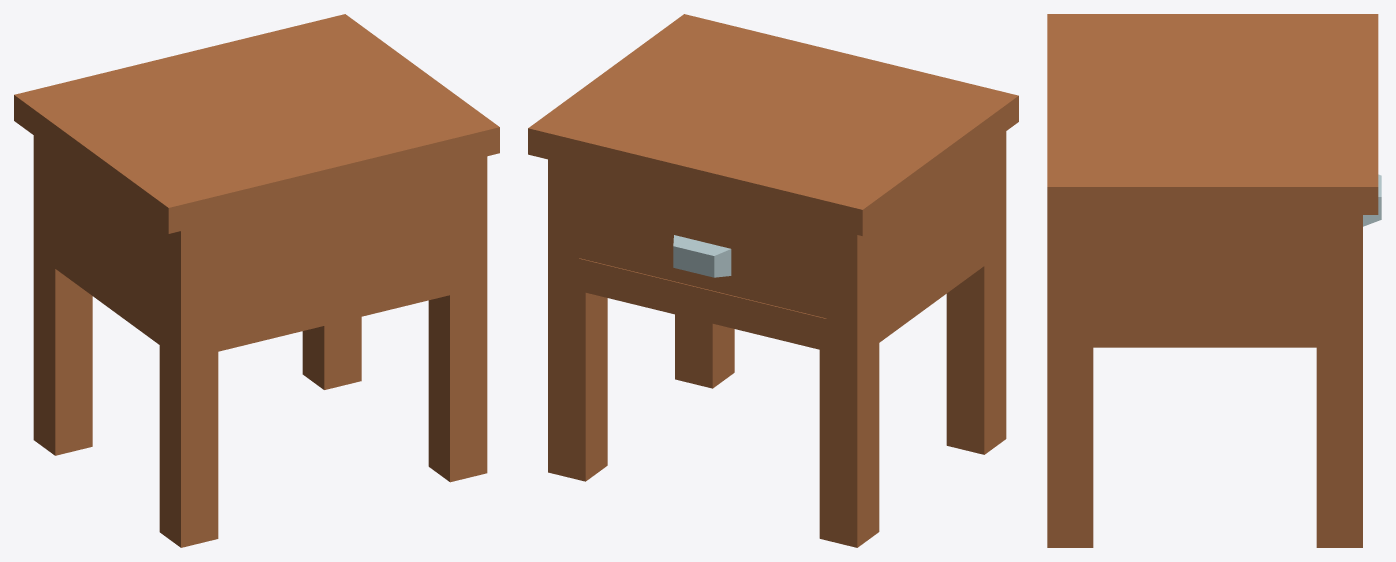
The model's file is Table.fbx.
The picture shows the model from 3 angles, left to right: view 1: azimuth 30°, elevation 25°; view 2: azimuth 150°, elevation 25°; view 3: azimuth 270°, elevation 25°; orthographic projection. The views are drawn at different scales.
Visible parts, largest first — view 1: mergedBlocks; view 2: mergedBlocks; view 3: mergedBlocks.
Part boxes in pixels (x1=…): mergedBlocks: x1=14, y1=14, x2=499, y2=547; mergedBlocks: x1=528, y1=14, x2=1018, y2=547; mergedBlocks: x1=1047, y1=14, x2=1381, y2=547.
Bounding box in the file's own units: 2.66 × 2.63 × 2.17.
